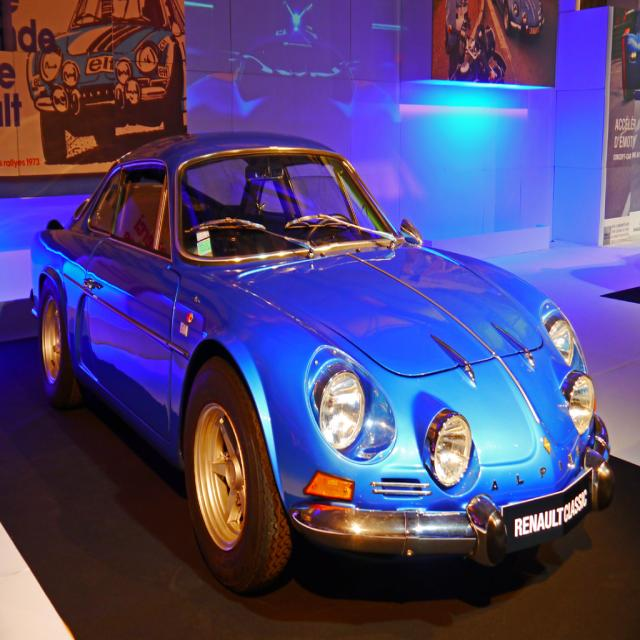car: (18, 143, 619, 590)
